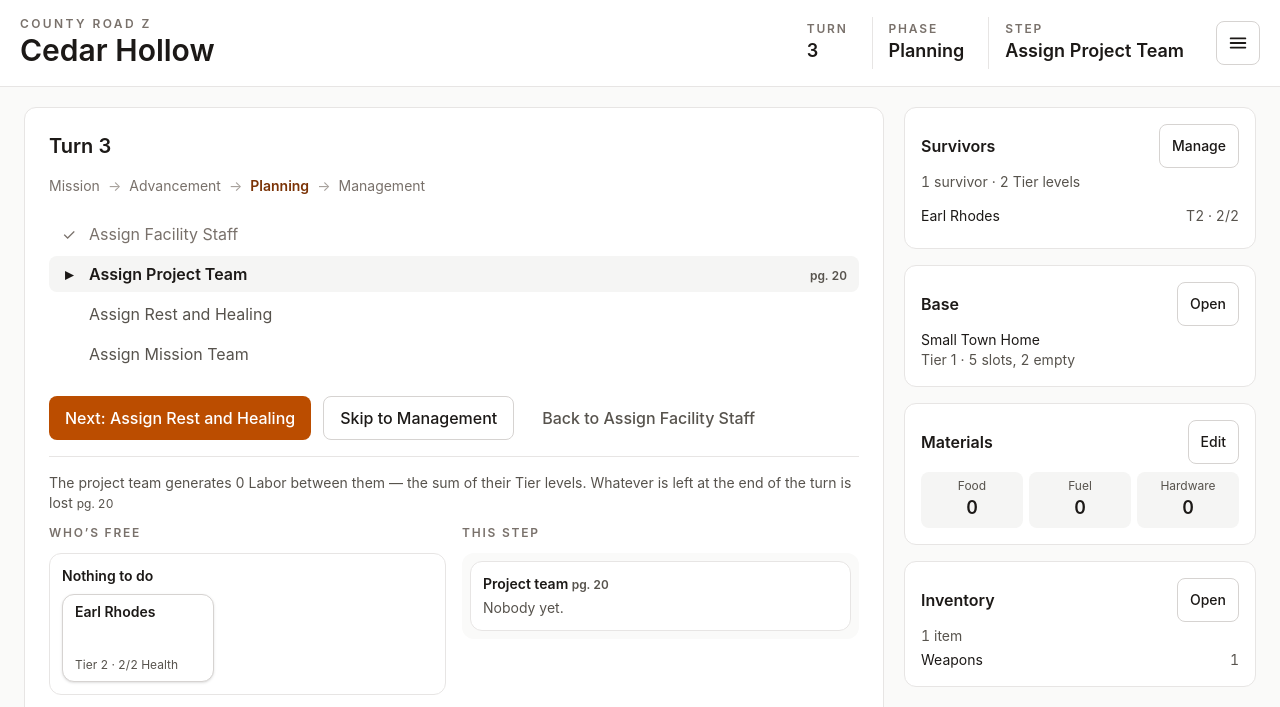
Test: the Inventory card and its modal (Z5-2) › takes an item out
Click the 2nd button "Open" at {"x": 1208, "y": 600}, box [1177,578,1239,622]
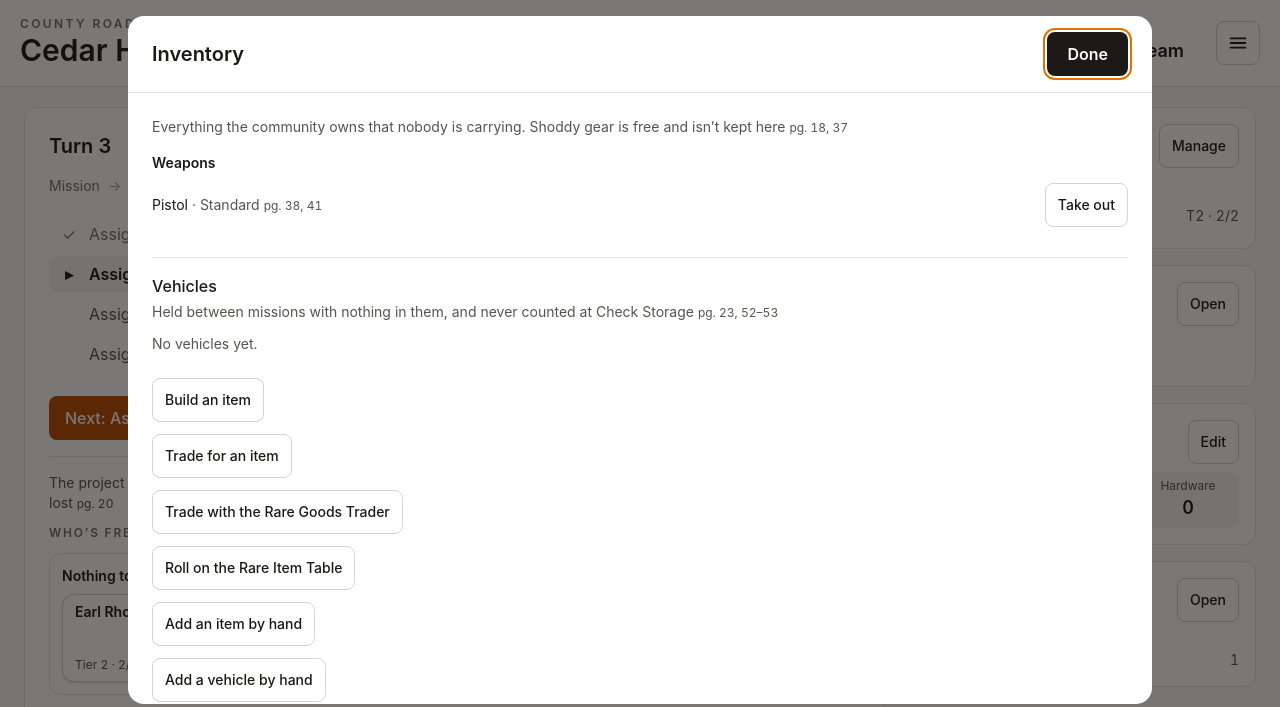
Click the button with aria-label "Take Pistol out" at {"x": 1086, "y": 205}, box [1045,183,1128,227]
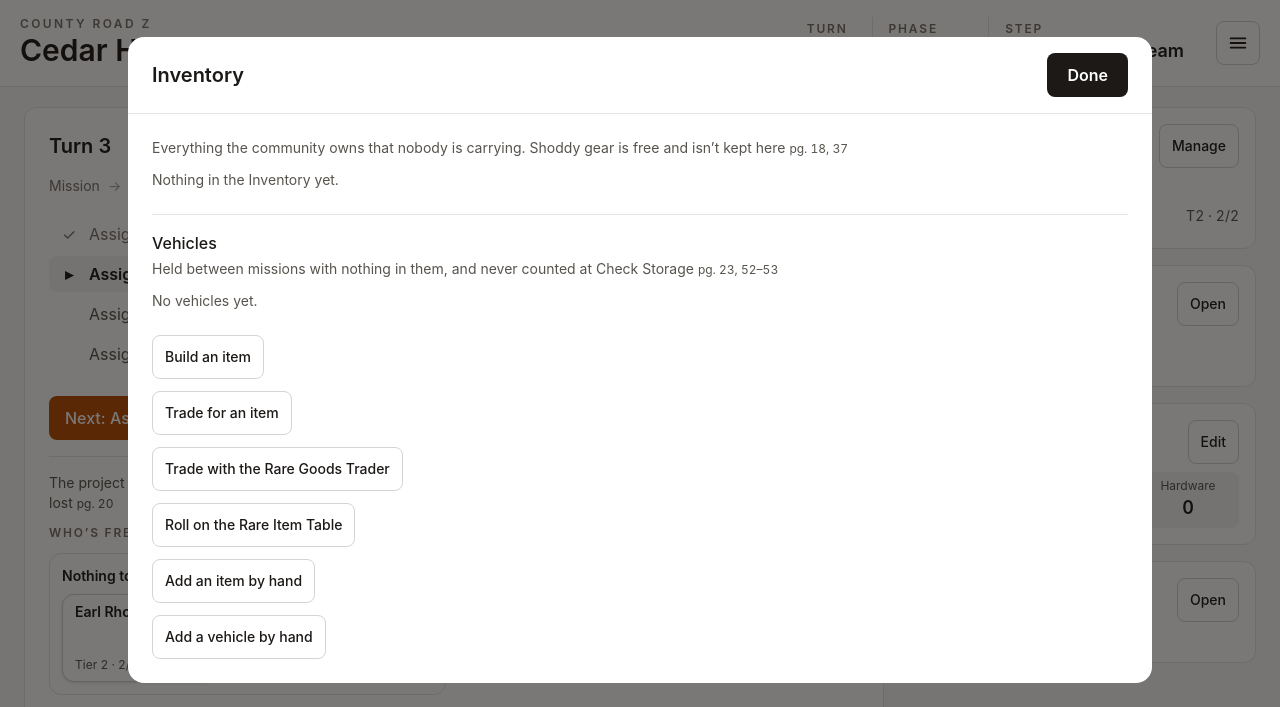
Expected: the text "Nothing in the Inventory yet." is shown, [152,171,339,188]
